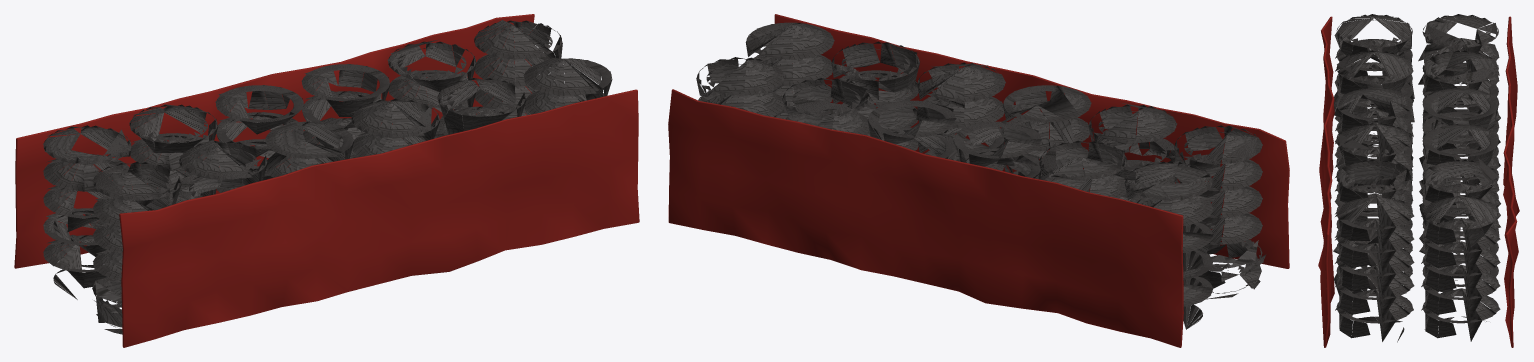
File: tyres.glb
The picture shows the model from 3 angles, left to right: view 1: azimuth 30°, elevation 25°; view 2: azimuth 150°, elevation 25°; view 3: azimuth 270°, elevation 25°; orthographic projection. The views are drawn at different scales.
Visible parts, largest first — view 1: body_01, body_00; view 2: body_01, body_00; view 3: body_00, body_01.
Part boxes in pixels (x1,y1,x2,y2): body_01: [14, 14, 639, 347]; body_00: [43, 20, 612, 334]; body_01: [668, 14, 1289, 347]; body_00: [696, 22, 1266, 329]; body_00: [1333, 14, 1500, 342]; body_01: [1318, 16, 1519, 347].
Size of the model in its own units: 5.02 by 1.55 by 1.96.
2 materials, 1 textured.
